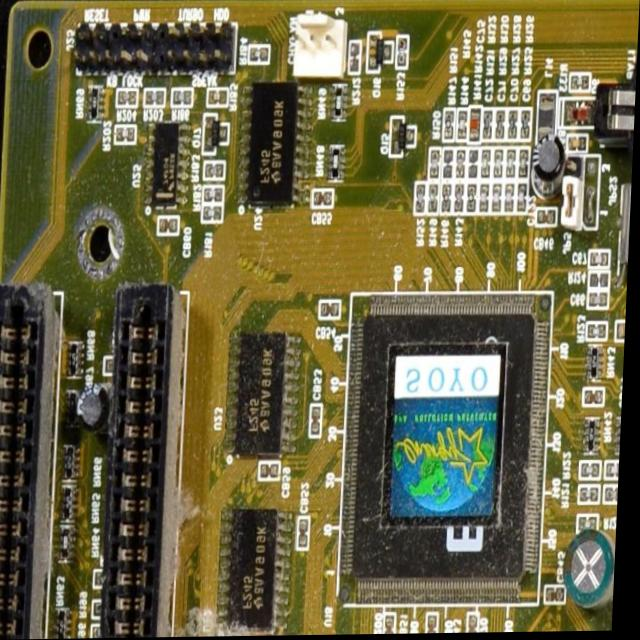IC: (344, 293, 556, 607), (219, 505, 297, 637), (227, 334, 302, 459), (238, 82, 313, 205), (145, 123, 192, 208)
capacitor: (301, 518, 316, 554), (516, 180, 530, 216), (504, 183, 519, 216), (549, 586, 572, 607), (480, 183, 493, 219), (592, 251, 613, 271), (538, 208, 560, 227), (491, 185, 504, 216), (314, 407, 326, 439), (159, 218, 180, 236), (583, 463, 604, 481), (587, 391, 608, 408), (316, 191, 335, 207), (267, 465, 284, 482), (591, 294, 610, 309), (610, 463, 624, 481), (619, 325, 628, 341)
connector: (103, 280, 193, 639), (0, 269, 66, 640), (75, 23, 240, 68), (191, 635, 268, 638)
resistor: (208, 88, 230, 109), (480, 150, 494, 181), (416, 183, 430, 214), (508, 110, 521, 143), (397, 36, 409, 71), (496, 108, 508, 142), (493, 148, 506, 179), (518, 150, 531, 181), (348, 43, 361, 74), (592, 272, 613, 291), (444, 107, 455, 143), (116, 127, 138, 145), (429, 184, 441, 217), (483, 109, 495, 141), (431, 149, 443, 181), (468, 183, 480, 215), (144, 90, 165, 108), (455, 185, 467, 215), (583, 516, 603, 534), (590, 323, 611, 340), (583, 488, 604, 505), (172, 91, 193, 108), (506, 150, 518, 179), (456, 150, 467, 181), (250, 47, 270, 64), (206, 164, 227, 180), (118, 90, 139, 106), (443, 149, 454, 179), (571, 76, 589, 94), (205, 188, 226, 203), (459, 112, 469, 142), (521, 112, 532, 139), (206, 207, 225, 222), (444, 186, 454, 212), (609, 486, 623, 503)
transistor: (201, 115, 231, 155), (367, 33, 394, 76), (390, 117, 417, 157)
